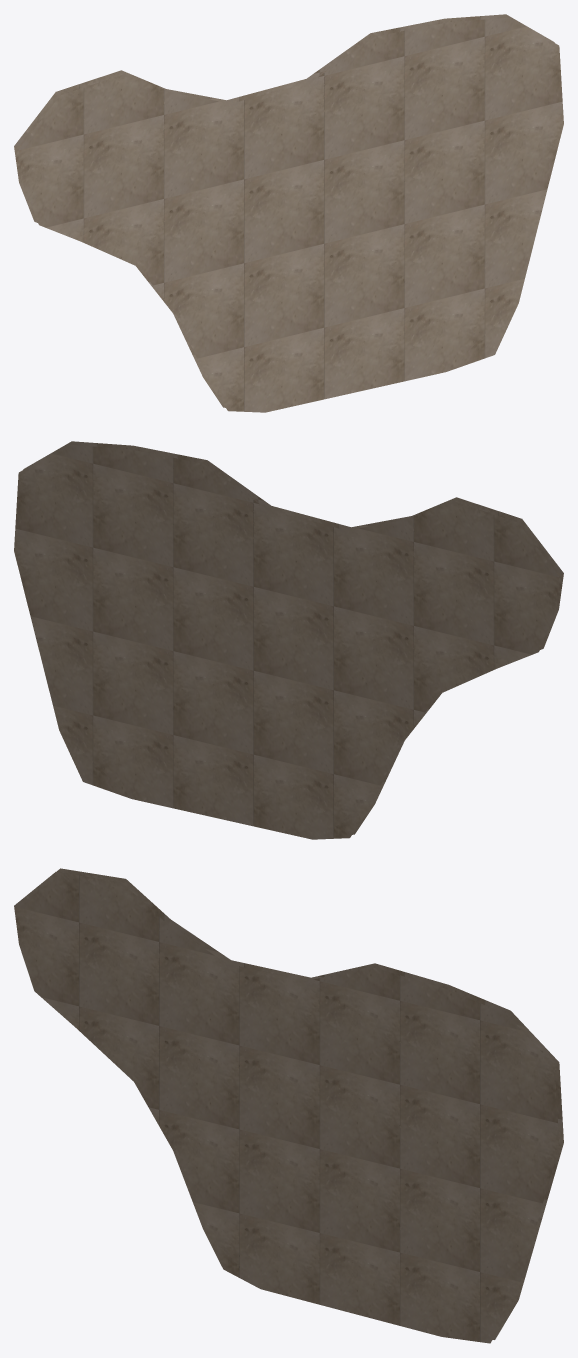
File: floor_40.obj
3 views of the same model, one above another, from view 1: azimuth 30°, elevation 25°; view 2: azimuth 150°, elevation 25°; view 3: azimuth 330°, elevation 25° (orthographic).
Parts seen in each view (by area): view 1: floor_40; view 2: floor_40; view 3: floor_40.
Part boxes in pixels (x1,y1,x2,y2): floor_40: (14,14,563,412); floor_40: (14,441,563,839); floor_40: (14,868,563,1343).
Size of the model in its own units: 6.8 by 4.49 by 0.1.
Materials: 1 (1 with a texture image).
